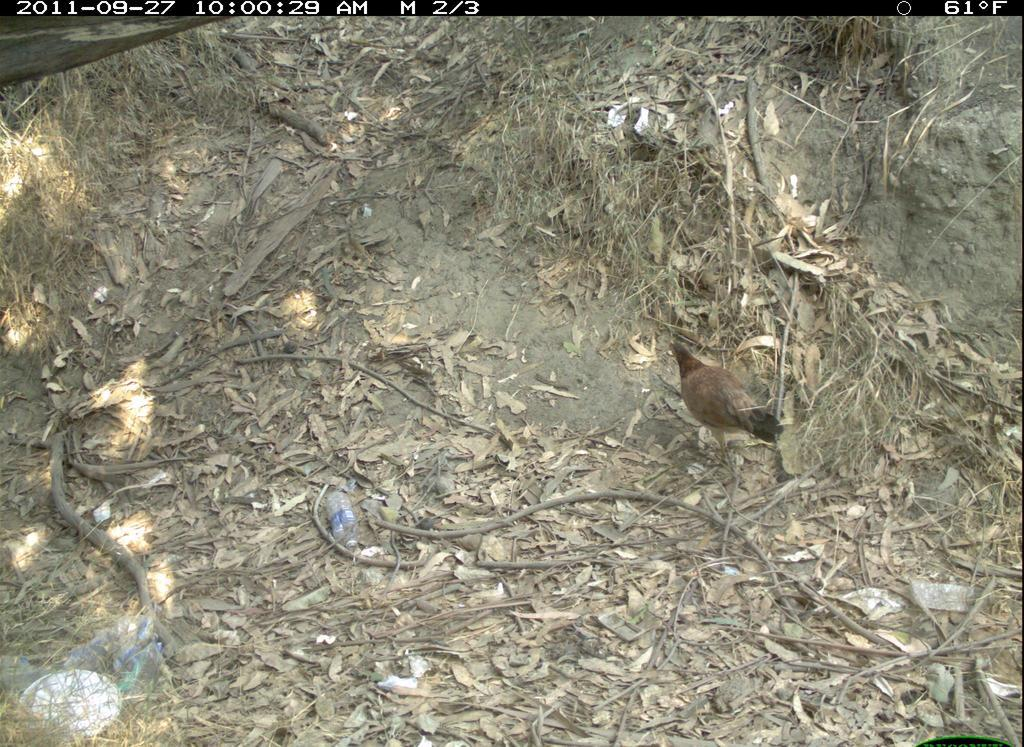bird: (665, 337, 788, 488)
